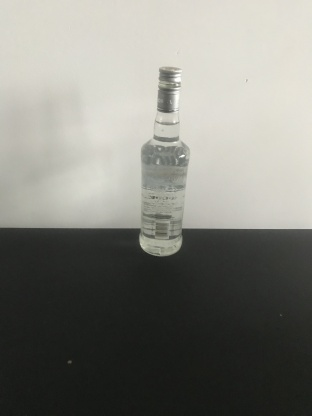nakretka: (155, 64, 182, 113)
